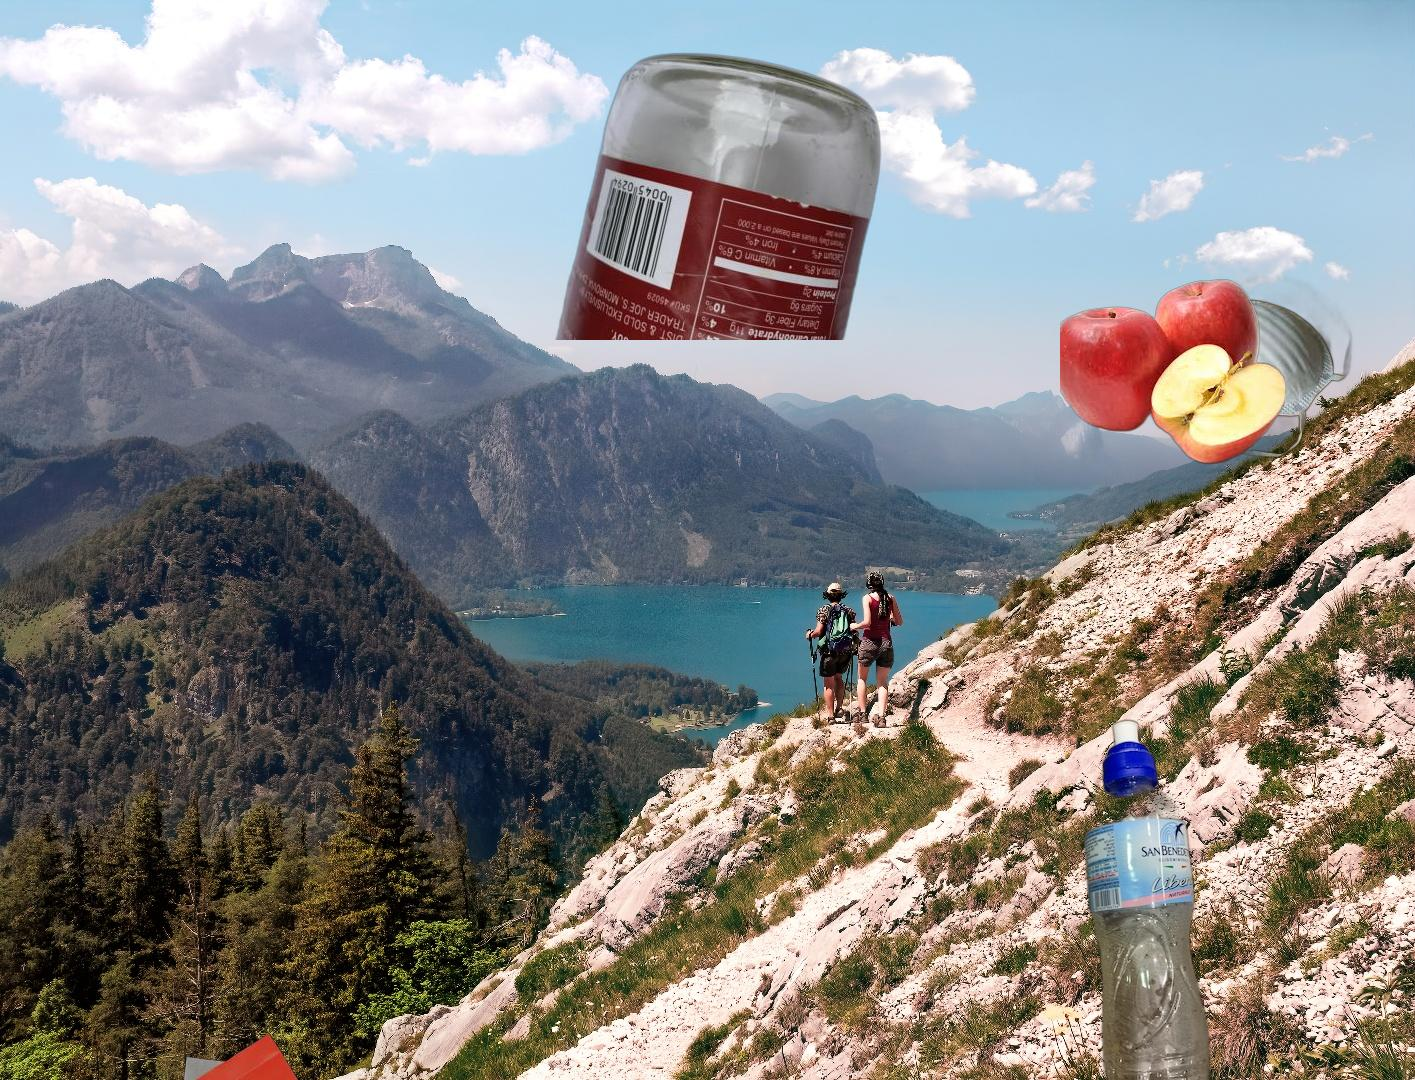biological: (1060, 276, 1285, 467)
glass: (553, 52, 885, 340)
paper-bag: (58, 1030, 326, 1080)
plastic-bottles: (1080, 715, 1254, 1080)
trash: (1166, 268, 1355, 471)
